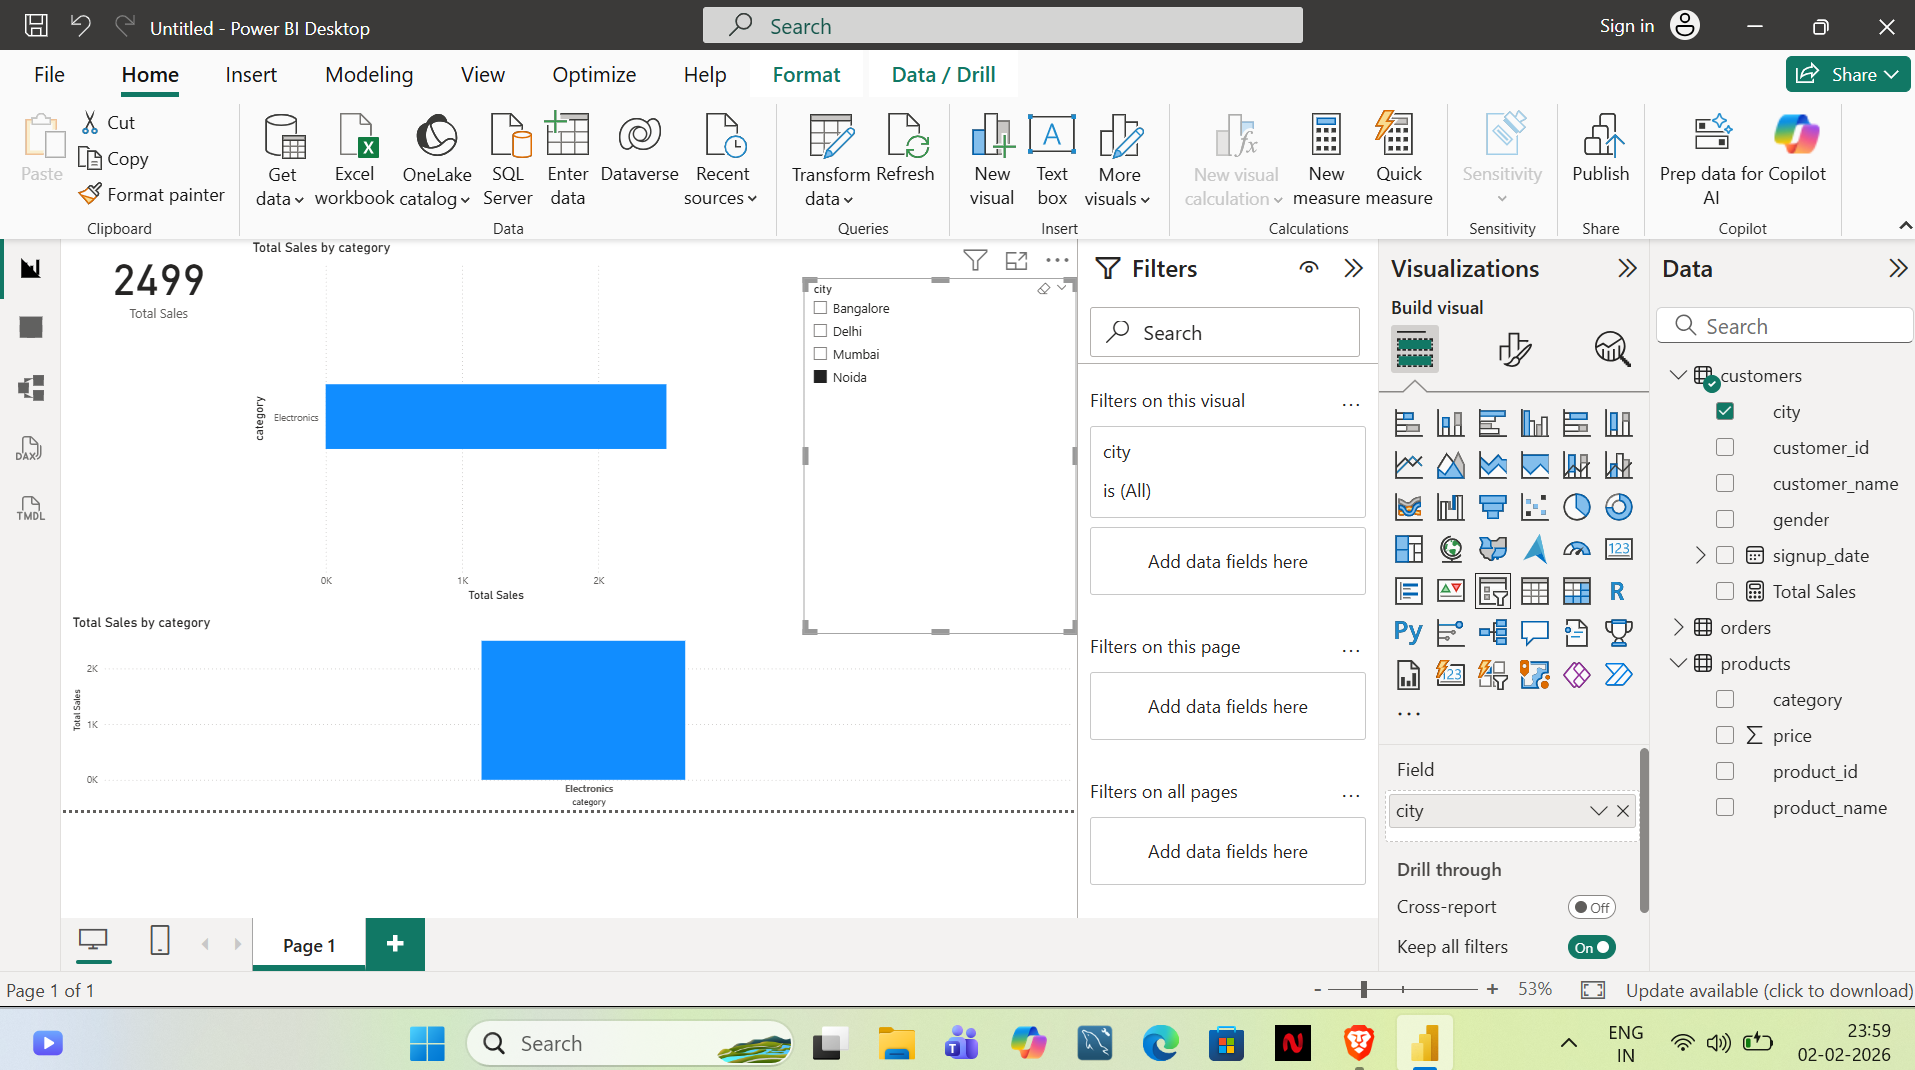

This screenshot's page, from the dashboard's own definition file:
{"tool":"powerbi","page":{"name":"Page 1","canvas":[1280,720],"ordinal":0},"visuals":[{"type":"card","fields":{"Values":["customers.Total Sales"]},"box":[9.4,0,226.8,109.6],"z":0},{"type":"barChart","fields":{"Category":["products.category"],"Y":["customers.Total Sales"]},"box":[236.2,0,544.3,461.1],"z":1000},{"type":"clusteredColumnChart","fields":{"Category":["products.category"],"Y":["customers.Total Sales"]},"box":[9.4,472.4,1269.9,247.6],"z":1001},{"type":"slicer","fields":{"Values":["customers.city"]},"box":[935.4,49.1,343.9,447.9],"z":1002}]}

Visuals, with their boxes on the page's 1280x720 design canvas (x1, y1, x2, y2). These are canvas units, not pixel positions in the 1915x1070 screenshot, which may show the page scaled, cropped or inside an application window:
card - customers.Total Sales: locate(9, 0, 236, 110)
barChart - products.category x customers.Total Sales: locate(236, 0, 780, 461)
clusteredColumnChart - products.category x customers.Total Sales: locate(9, 472, 1279, 720)
slicer - customers.city: locate(935, 49, 1279, 497)
